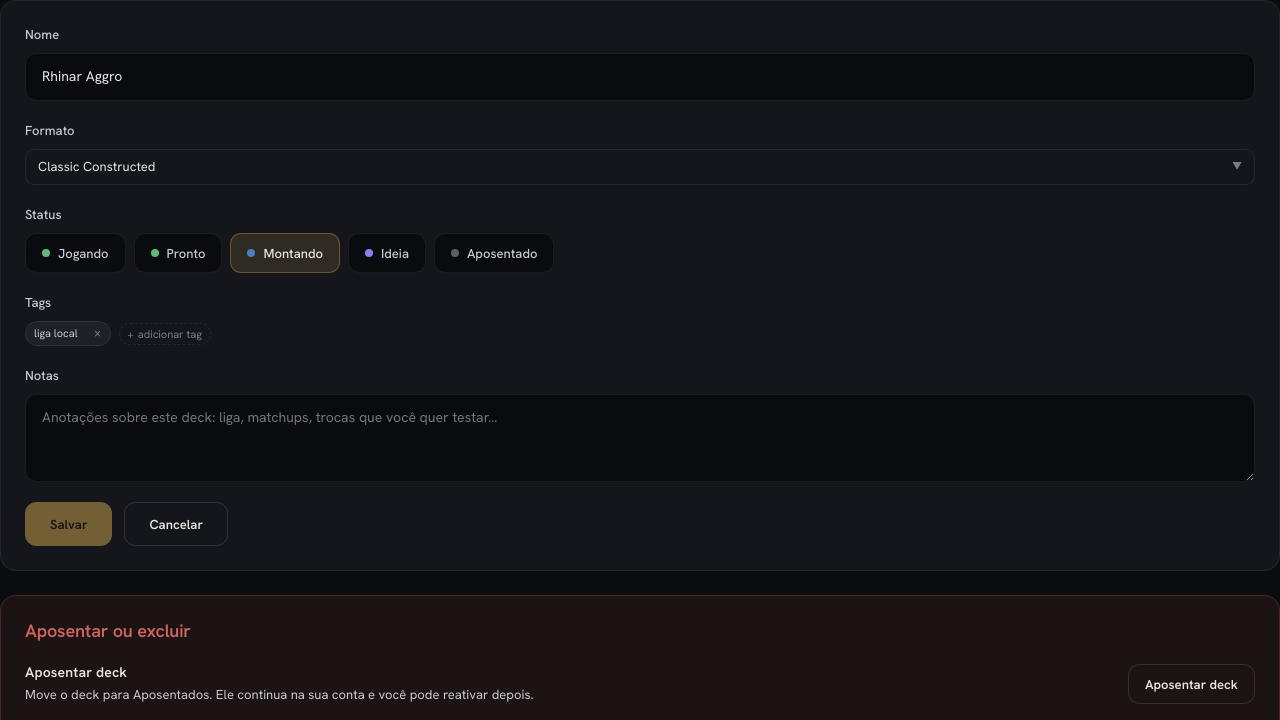
Test: DeckEditForm: leaving with unsaved changes › asks before discarding, counting the changed fields
The image size is (1280, 720).
Replace the text in the field with test id "deck-edit-name" with "Other" at (640, 77), box [25,53,1255,101]
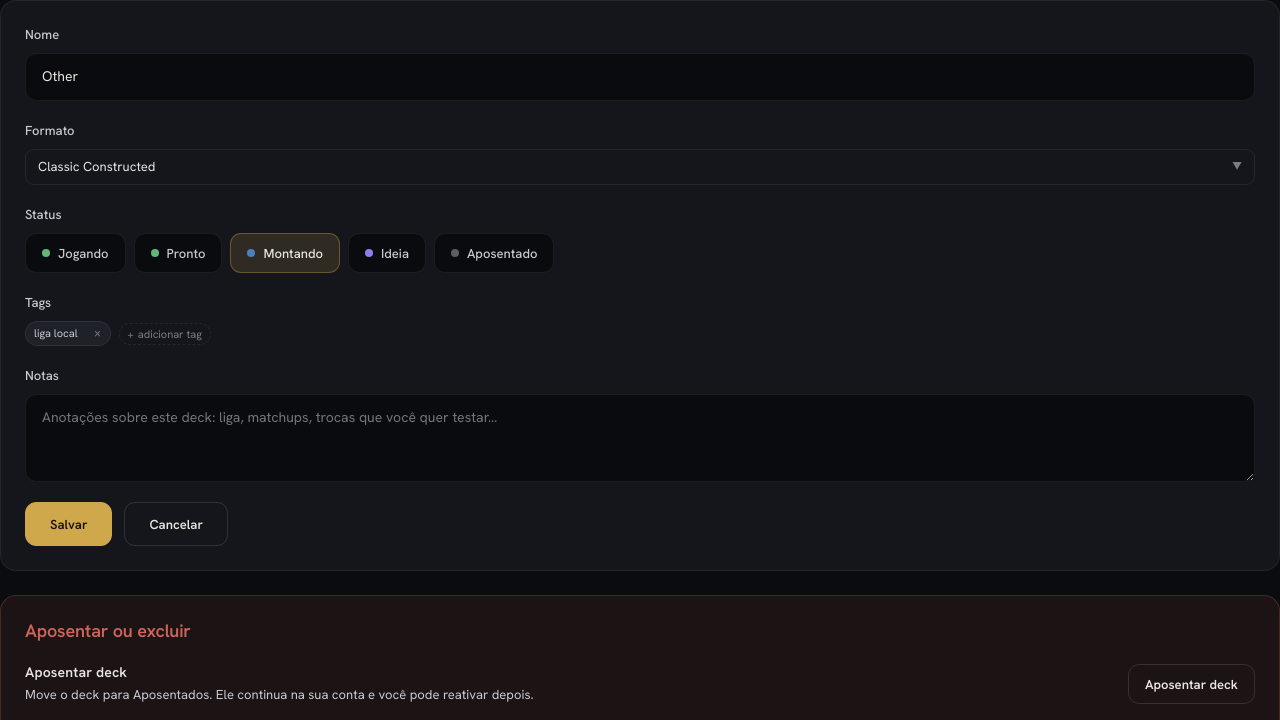
Replace the text in the text box with test id "deck-edit-notes" with "n" at (640, 438), box [25,394,1255,482]
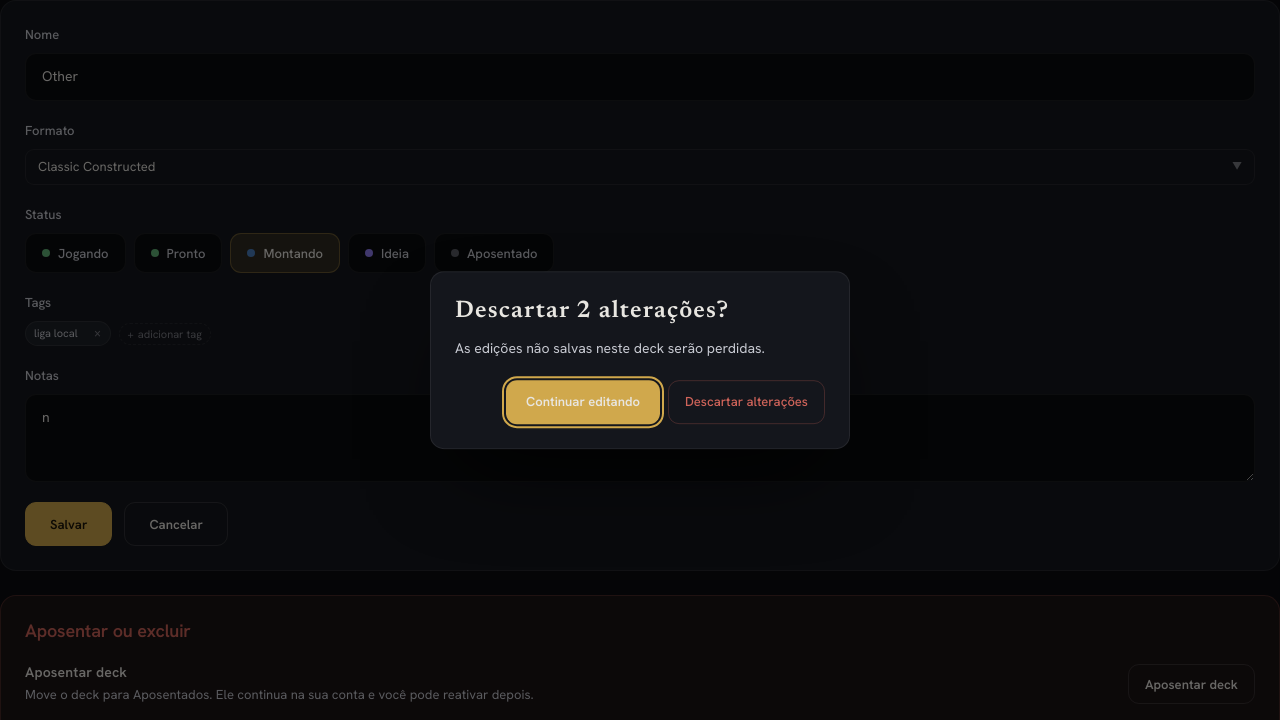
Now the dialog shows "Descartar 2 alterações?", box [455,299,729,323]
